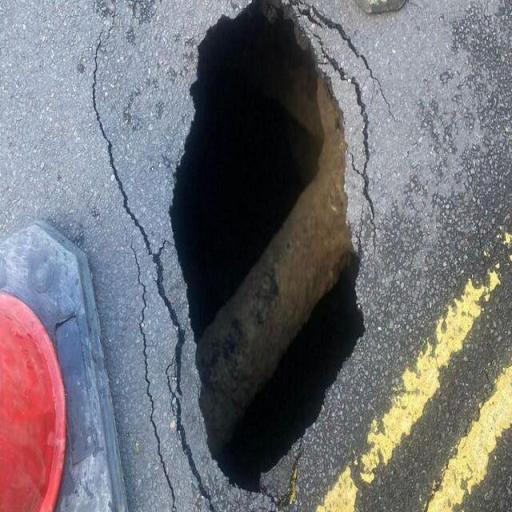Concentric_Crack: (93, 2, 376, 509)
